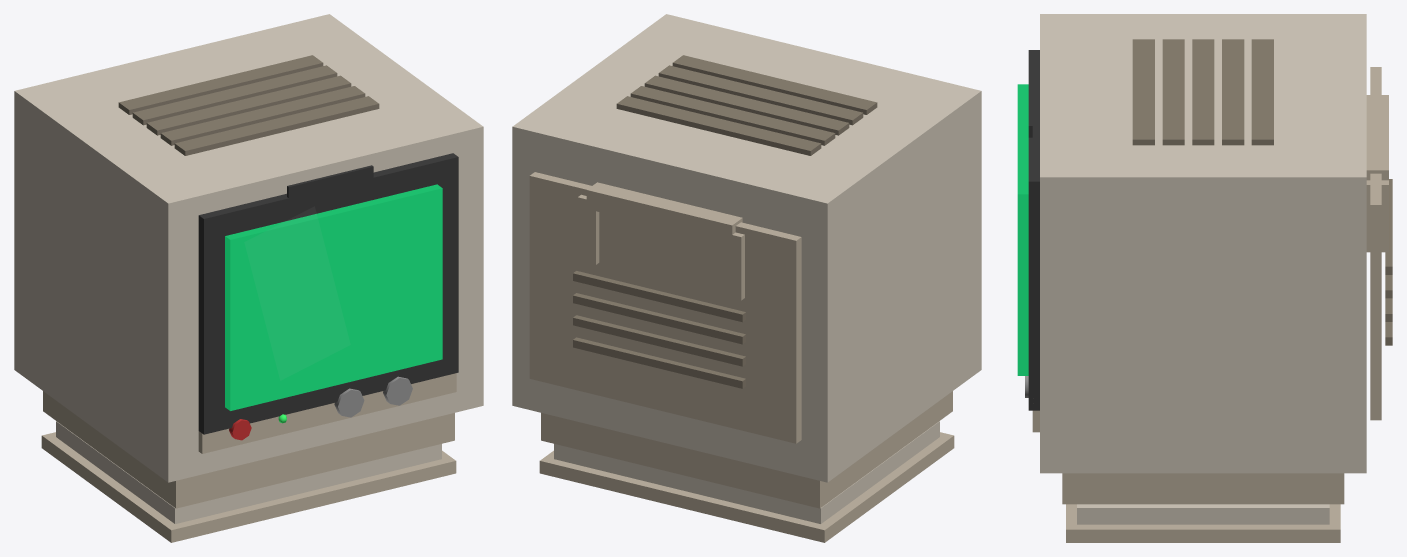
The model's file is low_poly_crt_monitor.glb.
3 renders of one model, left to right at view 1: azimuth 30°, elevation 25°; view 2: azimuth 150°, elevation 25°; view 3: azimuth 270°, elevation 25°, orthographic. The views are drawn at different scales.
Parts seen in each view (by area): view 1: Body, Screen, Bezel, BodyLower, StandLip, StandBase, FrontPanel, Vent4, Vent2, Vent3, Vent0, Vent1 (+3 smaller); view 2: Body, BackPanel, BodyLower, StandLip, StandBase, HandleBar, Vent0, Vent1, Vent2, Vent4, Vent3, BackVent0 (+5 smaller); view 3: Body, BodyLower, StandLip, StandBase, Bezel, Screen, BackPanel, Vent0, Vent1, Vent2, Vent3, Vent4 (+3 smaller).
Boxes of the visible parts, x1,y1,x2,y2 form: Body: (14,14,483,482); Screen: (225,184,442,410); Bezel: (198,153,458,434); BodyLower: (43,391,454,508); StandLip: (41,432,456,542); StandBase: (56,421,441,523); FrontPanel: (198,373,456,453); Vent4: (174,96,379,155); Vent2: (146,75,351,135); Vent3: (160,86,365,145); Vent0: (118,55,323,114); Vent1: (132,65,337,125); Body: (512,14,981,482); BackPanel: (529,172,801,443); BodyLower: (541,391,952,508); StandLip: (539,432,954,542); StandBase: (554,421,939,523); HandleBar: (586,182,742,243); Vent0: (616,96,821,155); Vent1: (630,86,835,145); Vent2: (644,75,849,135); Vent4: (672,55,877,114); Vent3: (658,65,863,125); BackVent0: (573,337,745,388); Body: (1040,14,1366,473); BodyLower: (1062,473,1344,504); StandLip: (1066,504,1340,542); StandBase: (1077,504,1329,524); Bezel: (1028,50,1039,410); Screen: (1017,84,1028,375); BackPanel: (1370,67,1381,420); Vent0: (1251,39,1273,145); Vent1: (1222,39,1244,145); Vent2: (1192,39,1214,145); Vent3: (1162,39,1184,145); Vent4: (1132,39,1154,145).
Size of the model in its own units: 5.2 by 5.64 by 5.15.
